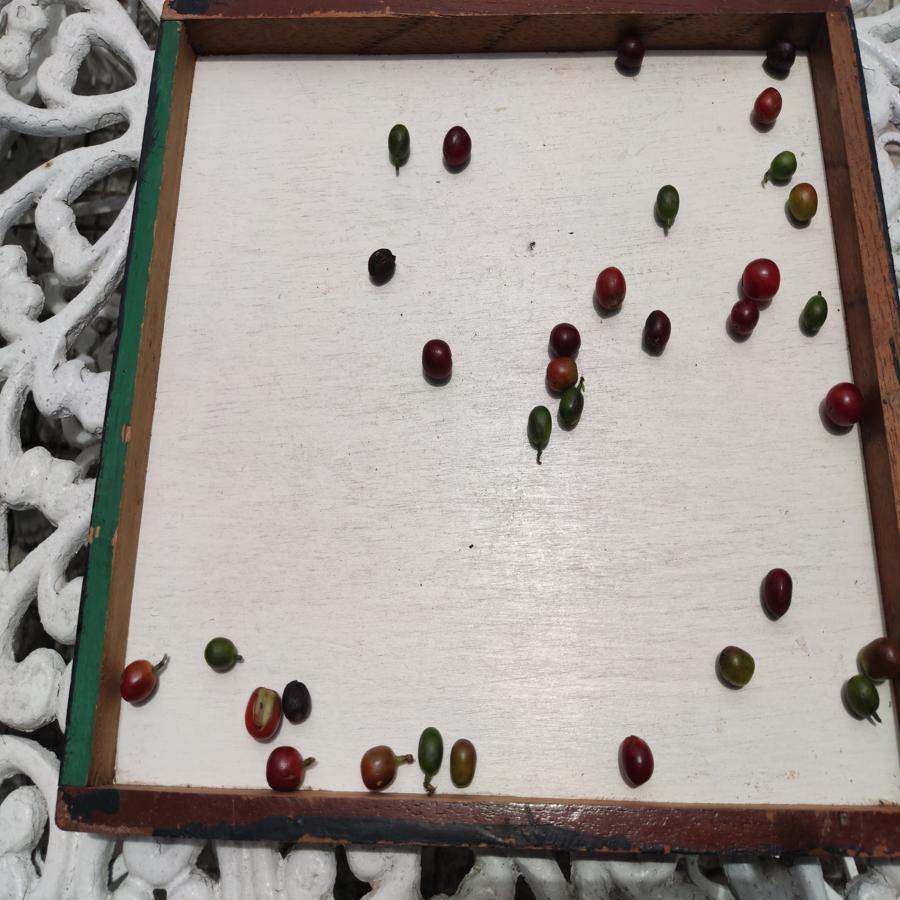Inmaduro: (201, 637, 242, 674), (417, 724, 444, 776), (846, 677, 879, 718), (558, 387, 587, 428), (655, 183, 680, 228), (527, 406, 553, 448), (801, 295, 828, 334), (387, 123, 412, 162), (768, 150, 798, 181)
Maduro: (824, 382, 865, 434), (245, 685, 280, 742), (119, 660, 157, 708), (741, 258, 780, 301), (594, 266, 628, 312), (751, 85, 786, 129), (543, 356, 579, 390)
Pinton: (359, 744, 398, 792), (716, 646, 758, 688), (857, 639, 900, 680), (786, 183, 820, 224), (449, 737, 476, 787)
Sobremaduro: (262, 744, 308, 790), (621, 733, 655, 787), (420, 339, 458, 385), (762, 567, 792, 618), (440, 124, 473, 168), (614, 35, 648, 76), (727, 300, 761, 339), (547, 321, 582, 356), (643, 308, 672, 349), (766, 39, 799, 75), (365, 249, 397, 280)
